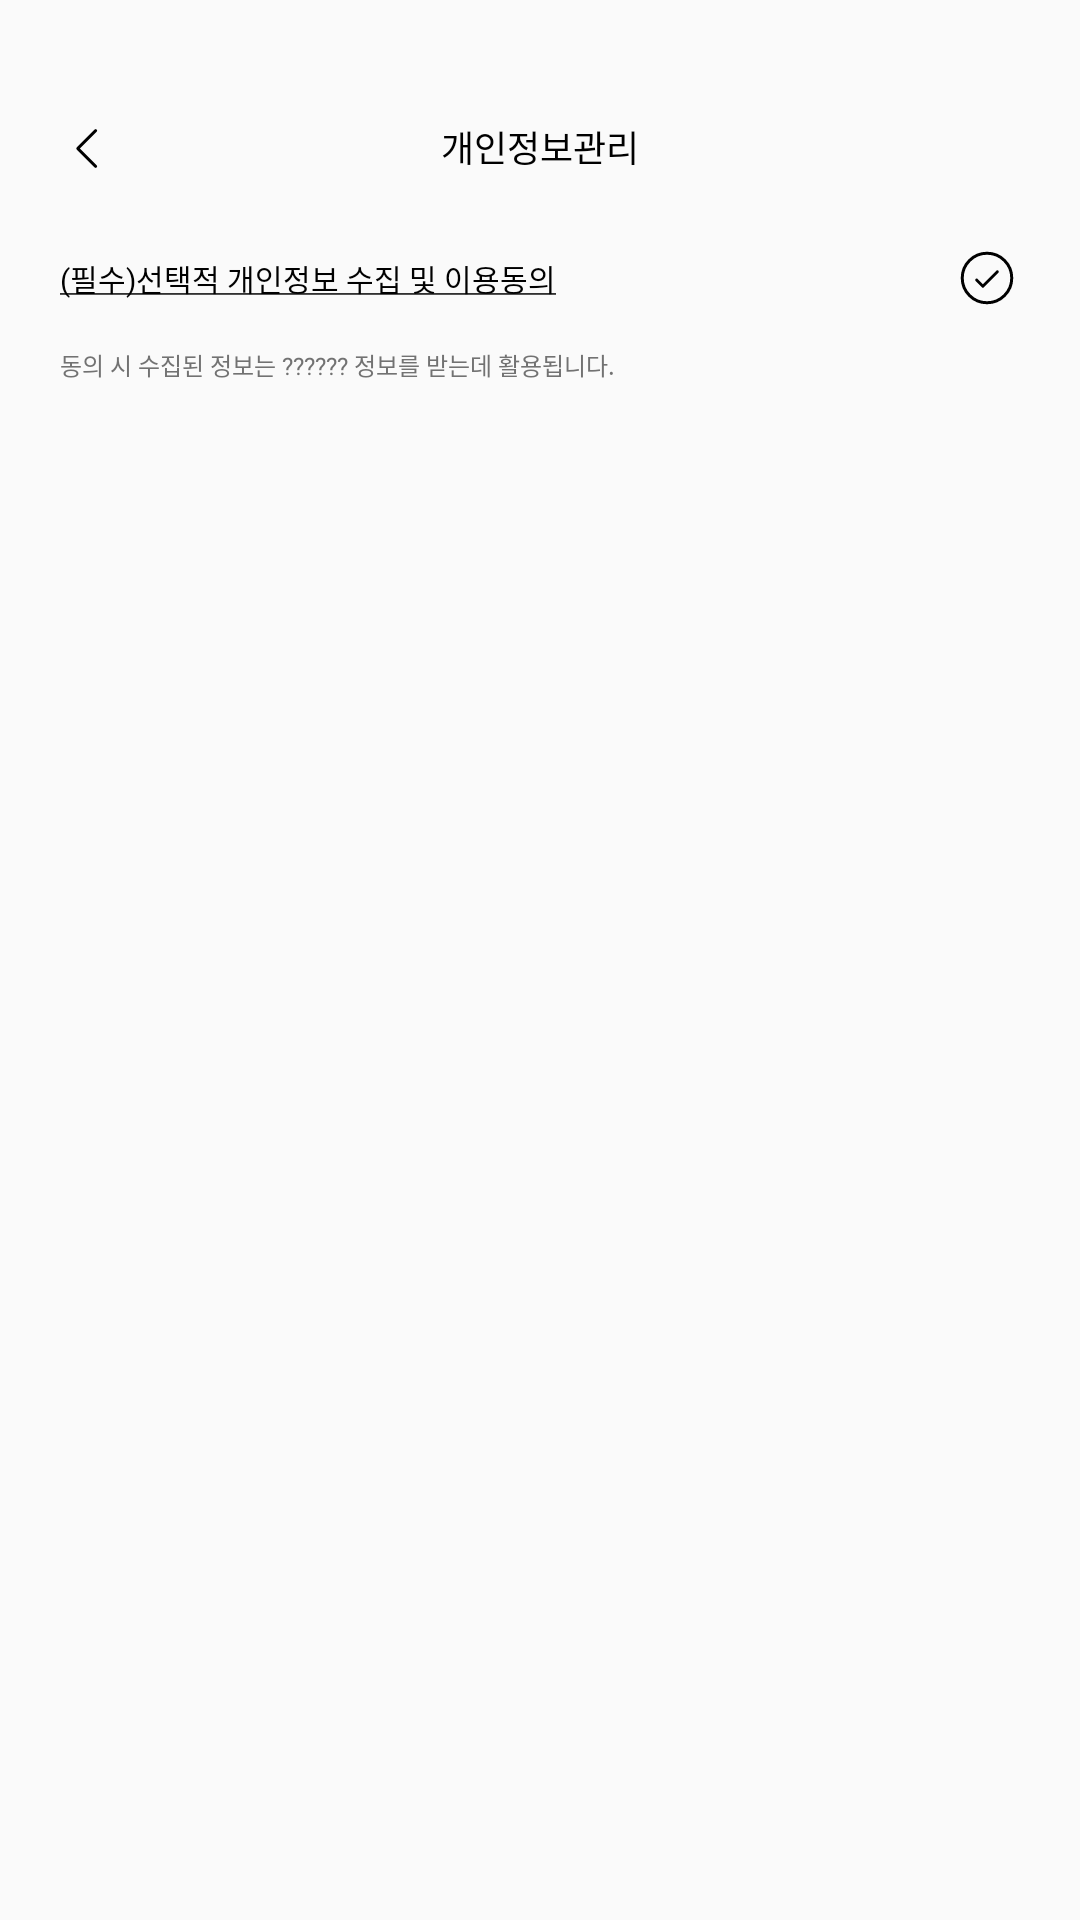

Where icons sit on this 1080w x 1920h app screen, as (x1, y1, x2, y2):
backbutton: (76, 129, 97, 168)
checkcircle: (960, 251, 1014, 305)
